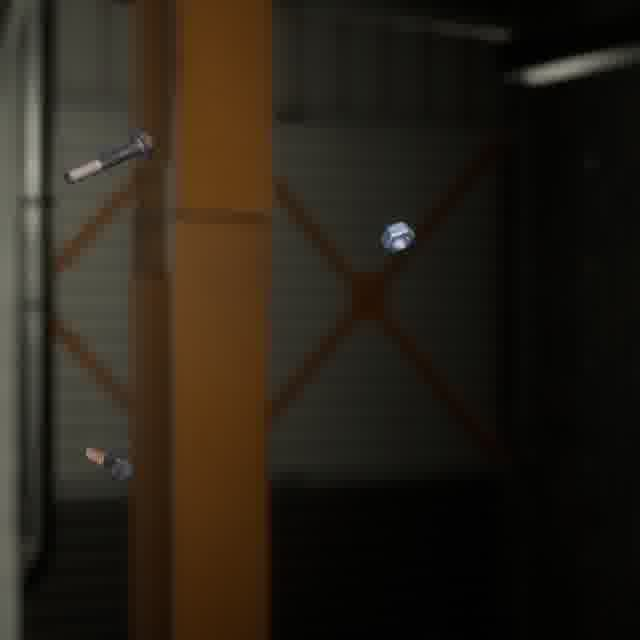bolt: (59, 126, 158, 188), (81, 442, 139, 486)
nut: (376, 217, 419, 258)
